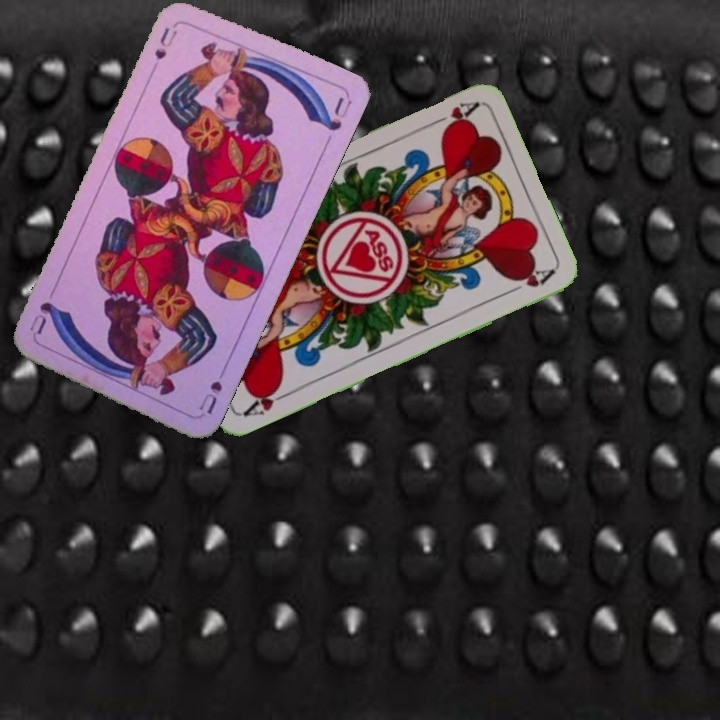HA: (234, 380, 291, 419), (423, 97, 480, 134)
SU: (195, 360, 229, 417), (150, 18, 181, 63)
